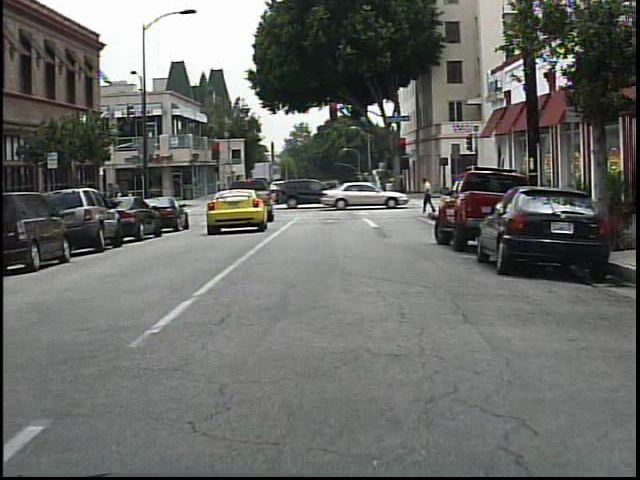person: (414, 173, 438, 216)
